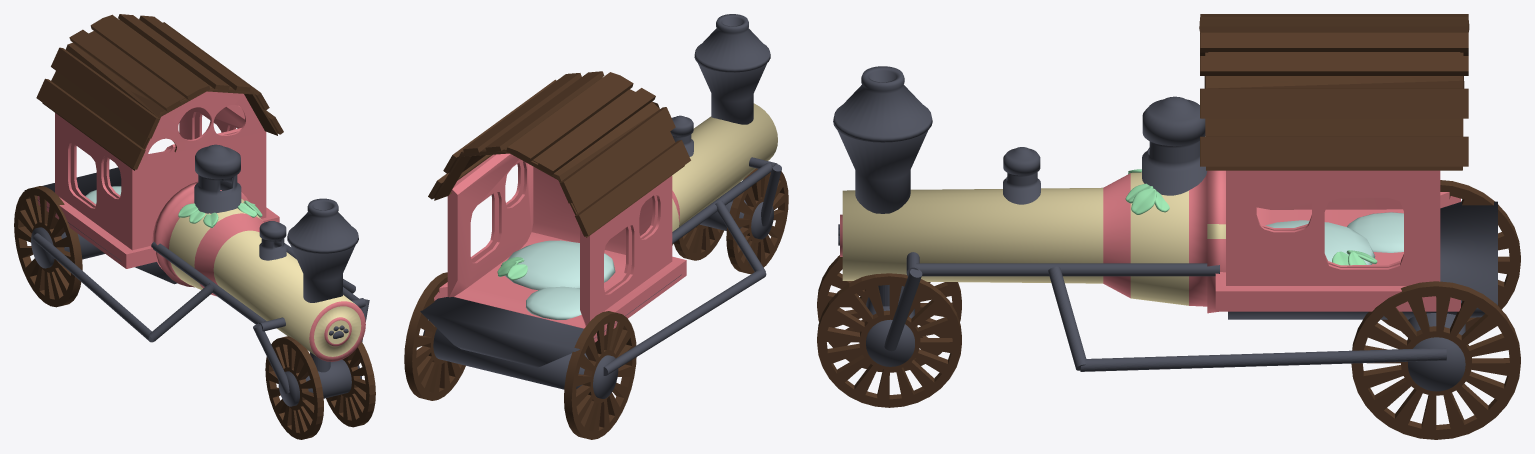
Rendered from stoomtrein.fbx.
The picture shows the model from 3 angles, left to right: view 1: azimuth 30°, elevation 25°; view 2: azimuth 150°, elevation 25°; view 3: azimuth 270°, elevation 25°; orthographic projection. The views are drawn at different scales.
Visible parts, largest first — view 1: Cylinder.017, Cylinder.013, Circle.003, Circle.002, Cylinder.014, Cylinder.016, Cylinder.024, Cylinder.019, Cylinder.021, Cube.004, Cylinder.015, Cylinder.018 (+2 smaller); view 2: Cylinder.017, Circle.002, Cube.004, Cylinder.013, Cylinder.014, Circle.003, Cylinder.018, Cube.003, Cylinder.024, Cube.005, Cylinder.021, Cylinder.019 (+3 smaller); view 3: Cylinder.017, Cylinder.013, Circle.002, Circle.003, Cylinder.014, Cube.004, Cylinder.016, Cylinder.024, Cylinder.021, Cylinder.018, Cylinder.015, Cube.005 (+4 smaller).
Part boxes in pixels (x1,y1,x2,y2): Cylinder.017: [36, 14, 283, 268]; Cylinder.013: [152, 181, 365, 361]; Circle.003: [265, 336, 375, 439]; Circle.002: [14, 186, 82, 307]; Cylinder.014: [287, 198, 358, 302]; Cylinder.016: [194, 144, 241, 213]; Cylinder.024: [33, 233, 292, 342]; Cylinder.019: [278, 359, 361, 406]; Cylinder.021: [151, 242, 358, 324]; Cube.004: [24, 167, 177, 284]; Cylinder.015: [259, 221, 286, 260]; Cylinder.018: [31, 227, 104, 268]; Cylinder.017: [428, 71, 690, 342]; Circle.002: [404, 272, 636, 439]; Cube.004: [420, 274, 681, 367]; Cylinder.013: [672, 103, 777, 245]; Cylinder.014: [694, 14, 770, 124]; Circle.003: [674, 168, 788, 274]; Cylinder.018: [423, 328, 618, 398]; Cube.003: [505, 240, 615, 290]; Cylinder.024: [603, 270, 766, 375]; Cube.005: [526, 286, 581, 319]; Cylinder.021: [672, 163, 771, 243]; Cylinder.019: [700, 200, 773, 239]; Cylinder.017: [1199, 14, 1469, 311]; Cylinder.013: [840, 170, 1225, 313]; Circle.002: [1351, 180, 1520, 439]; Circle.003: [817, 255, 961, 407]; Cylinder.014: [833, 66, 932, 213]; Cube.004: [1228, 201, 1497, 319]; Cylinder.016: [1142, 96, 1207, 195]; Cylinder.024: [1080, 348, 1446, 371]; Cylinder.021: [916, 263, 1219, 276]; Cylinder.018: [1408, 313, 1465, 391]; Cylinder.015: [1003, 147, 1040, 204]; Cube.005: [1347, 212, 1403, 252].
Size of the model in its own units: 1865 by 2252 by 3966.
